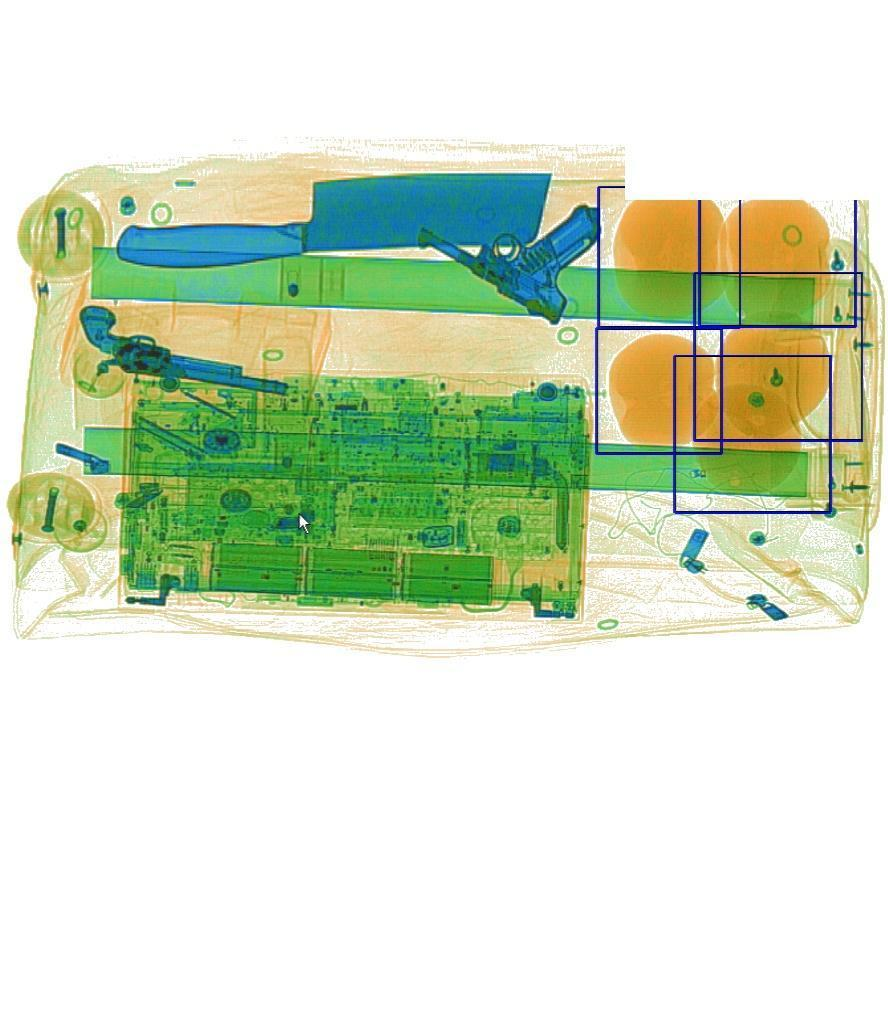Gun: (409, 128, 615, 329), (71, 303, 293, 400)
Knife: (112, 170, 551, 268)
